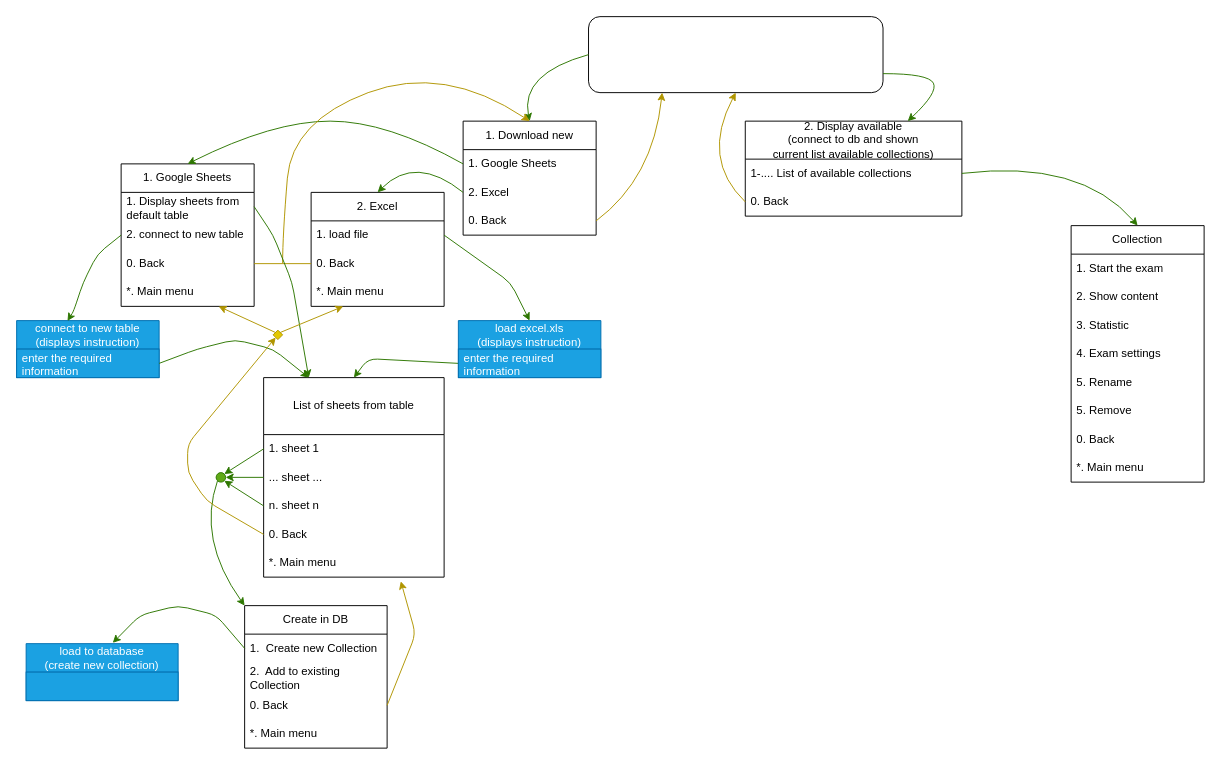
Some shapes in this 1221 by 765 pixel diagram are drawn without their labels. The shapes that lost their labels are listed below. From the top down, each one's centre as x and y in pixels, then its label:
pixel 735 54: "MAIN MENU" 1. Download new collection 2. Display available collection
pixel 101 686: Enter the name
